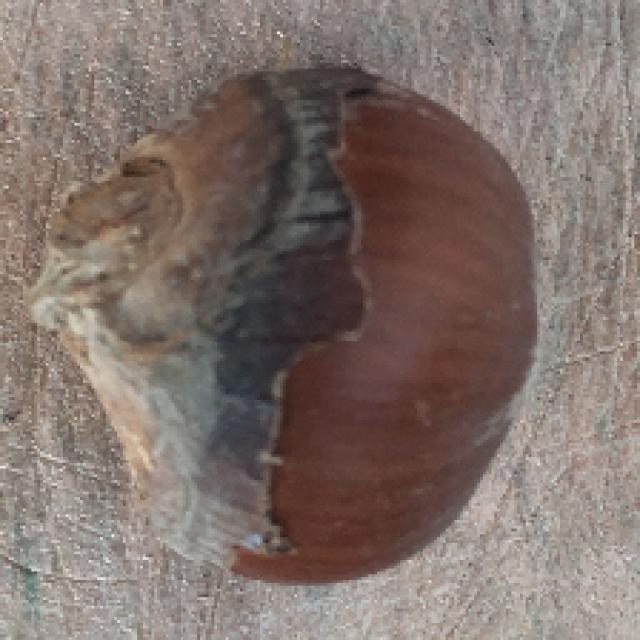damagedHazelnut: (44, 67, 544, 583)
